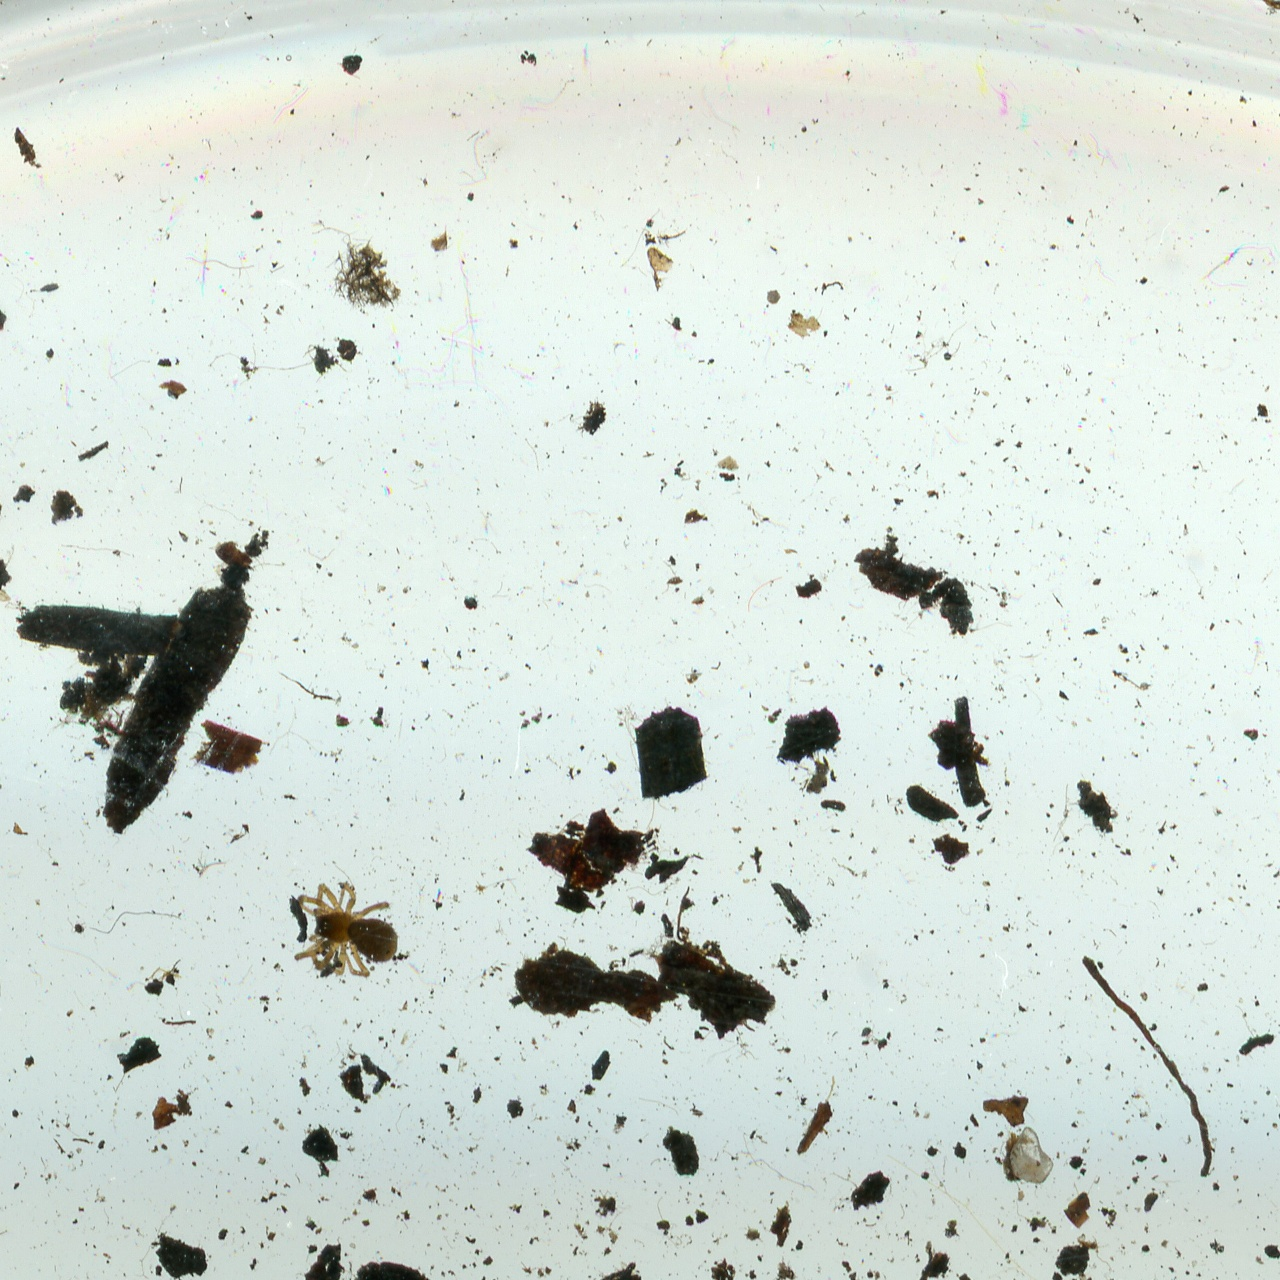arthropod: (293, 882, 399, 978)
